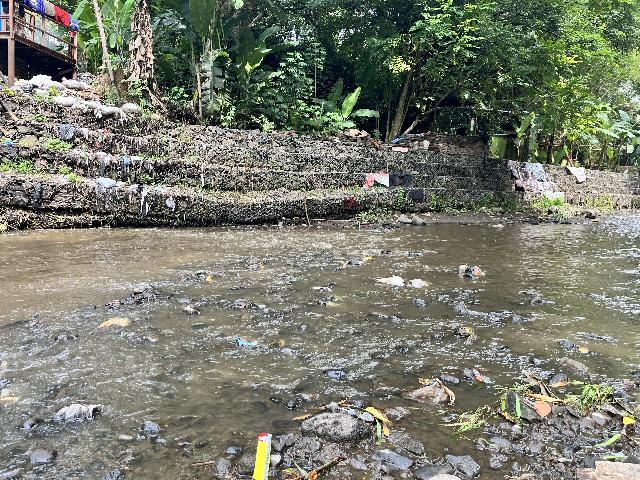Sampah Anorganik: (405, 378, 456, 411), (246, 428, 276, 480), (457, 263, 494, 280), (230, 334, 261, 348), (472, 369, 497, 386), (374, 275, 406, 287), (408, 278, 429, 289), (312, 285, 333, 292), (358, 256, 372, 262), (277, 272, 287, 277)
Sampah Organik: (514, 367, 640, 480), (309, 400, 403, 441), (455, 401, 503, 433), (95, 317, 135, 329), (0, 389, 24, 405), (324, 294, 345, 309), (103, 296, 123, 308), (463, 326, 479, 340), (270, 338, 290, 348), (190, 461, 217, 468), (238, 300, 253, 309), (576, 346, 588, 355), (205, 275, 215, 281), (343, 262, 349, 269), (257, 262, 264, 268)
